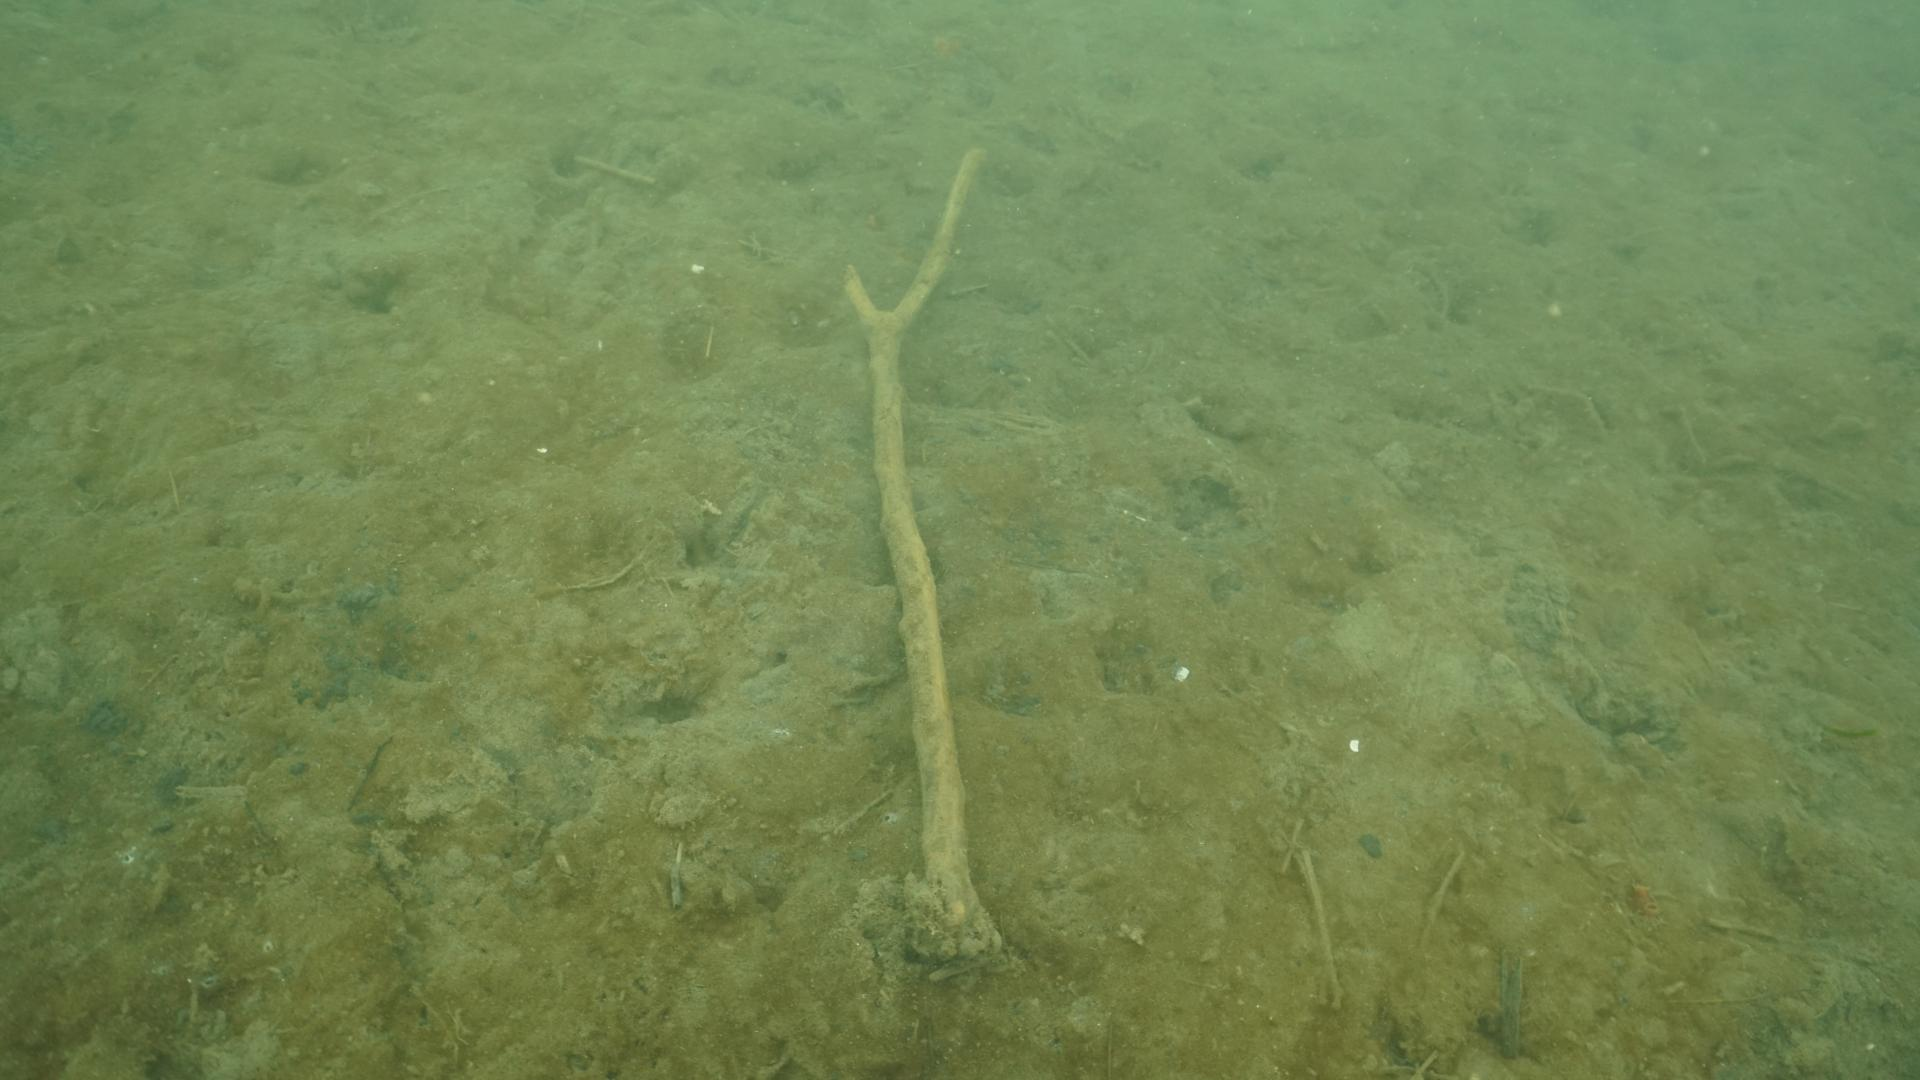wood: (836, 146, 1004, 956)
